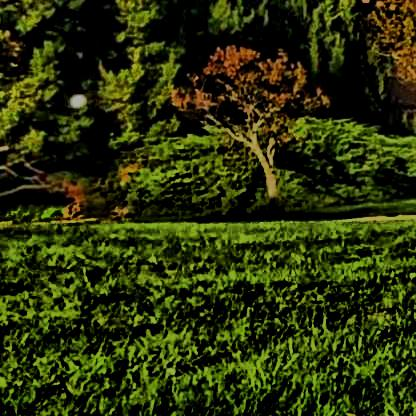golfball: (65, 90, 84, 107)
